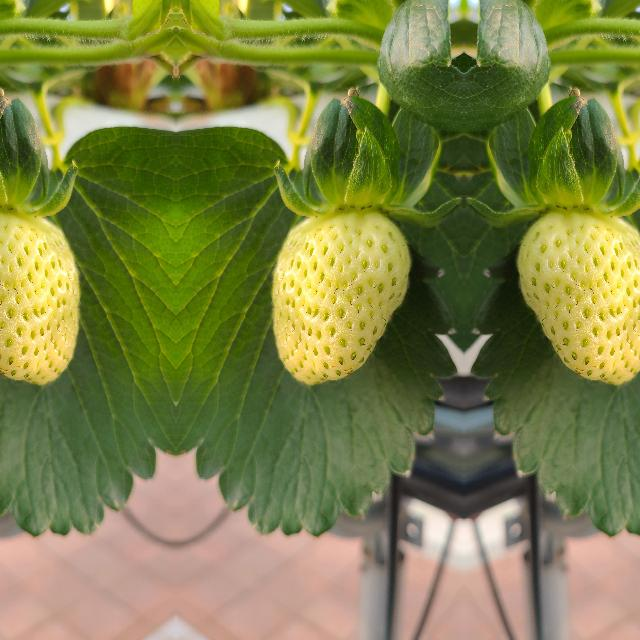Health_25: (270, 208, 410, 388), (515, 208, 640, 387), (0, 208, 80, 387)
